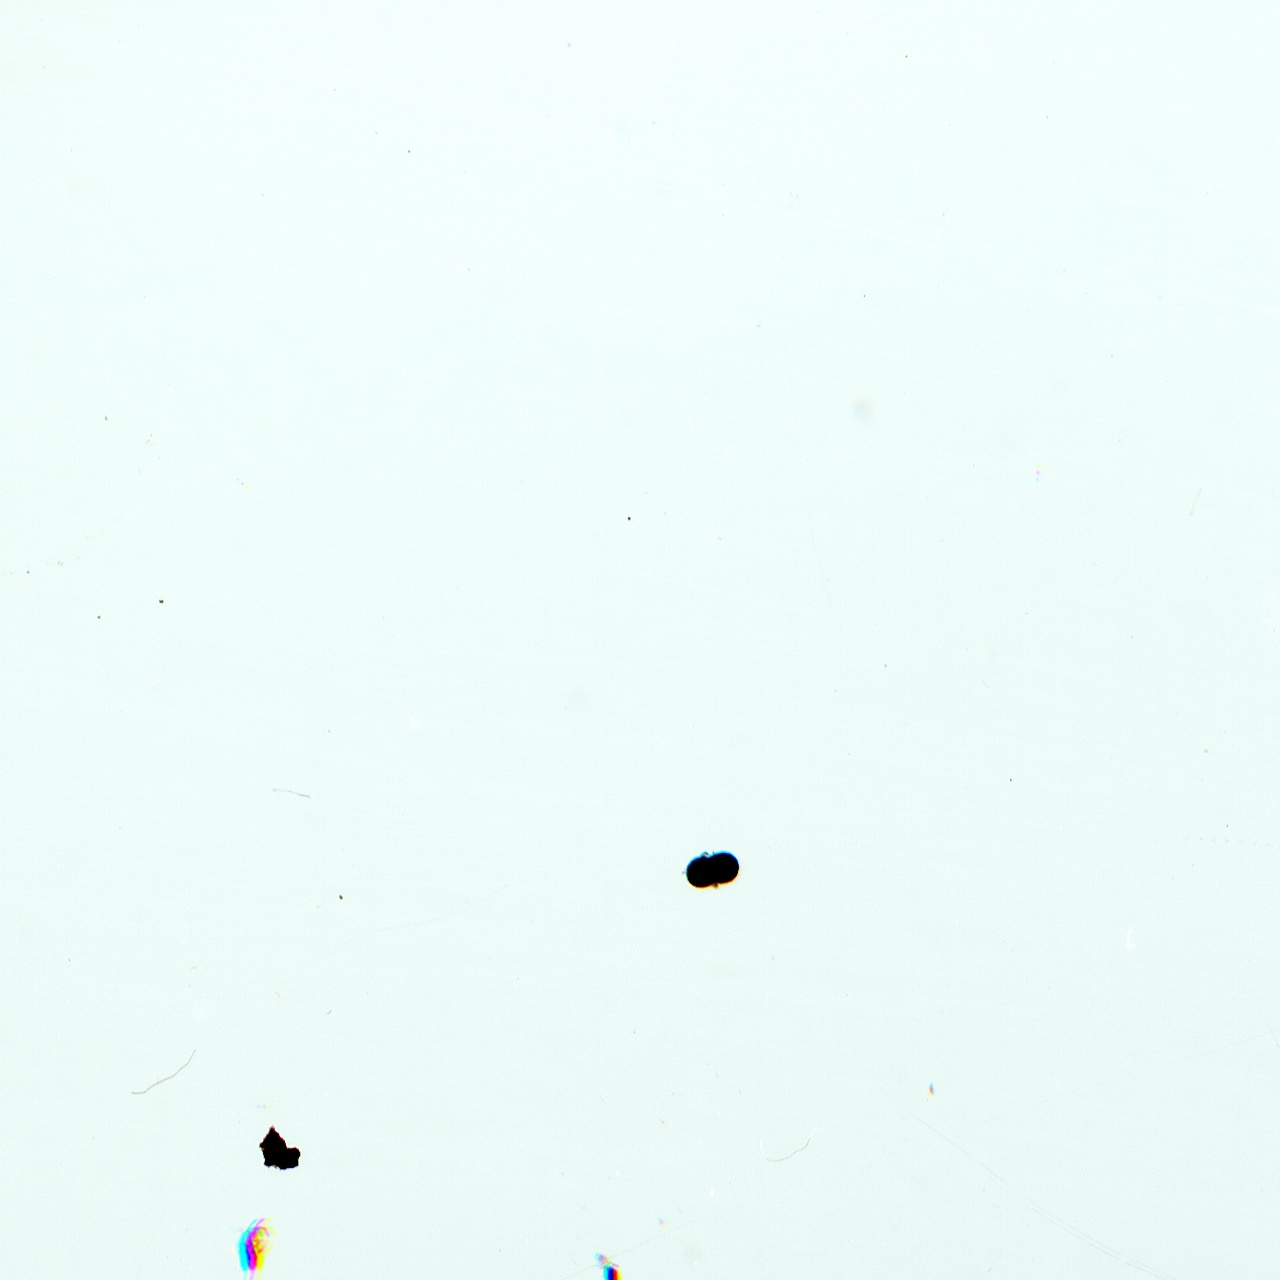arthropod: (230, 1210, 280, 1280), (680, 844, 745, 896), (597, 1253, 627, 1280)
